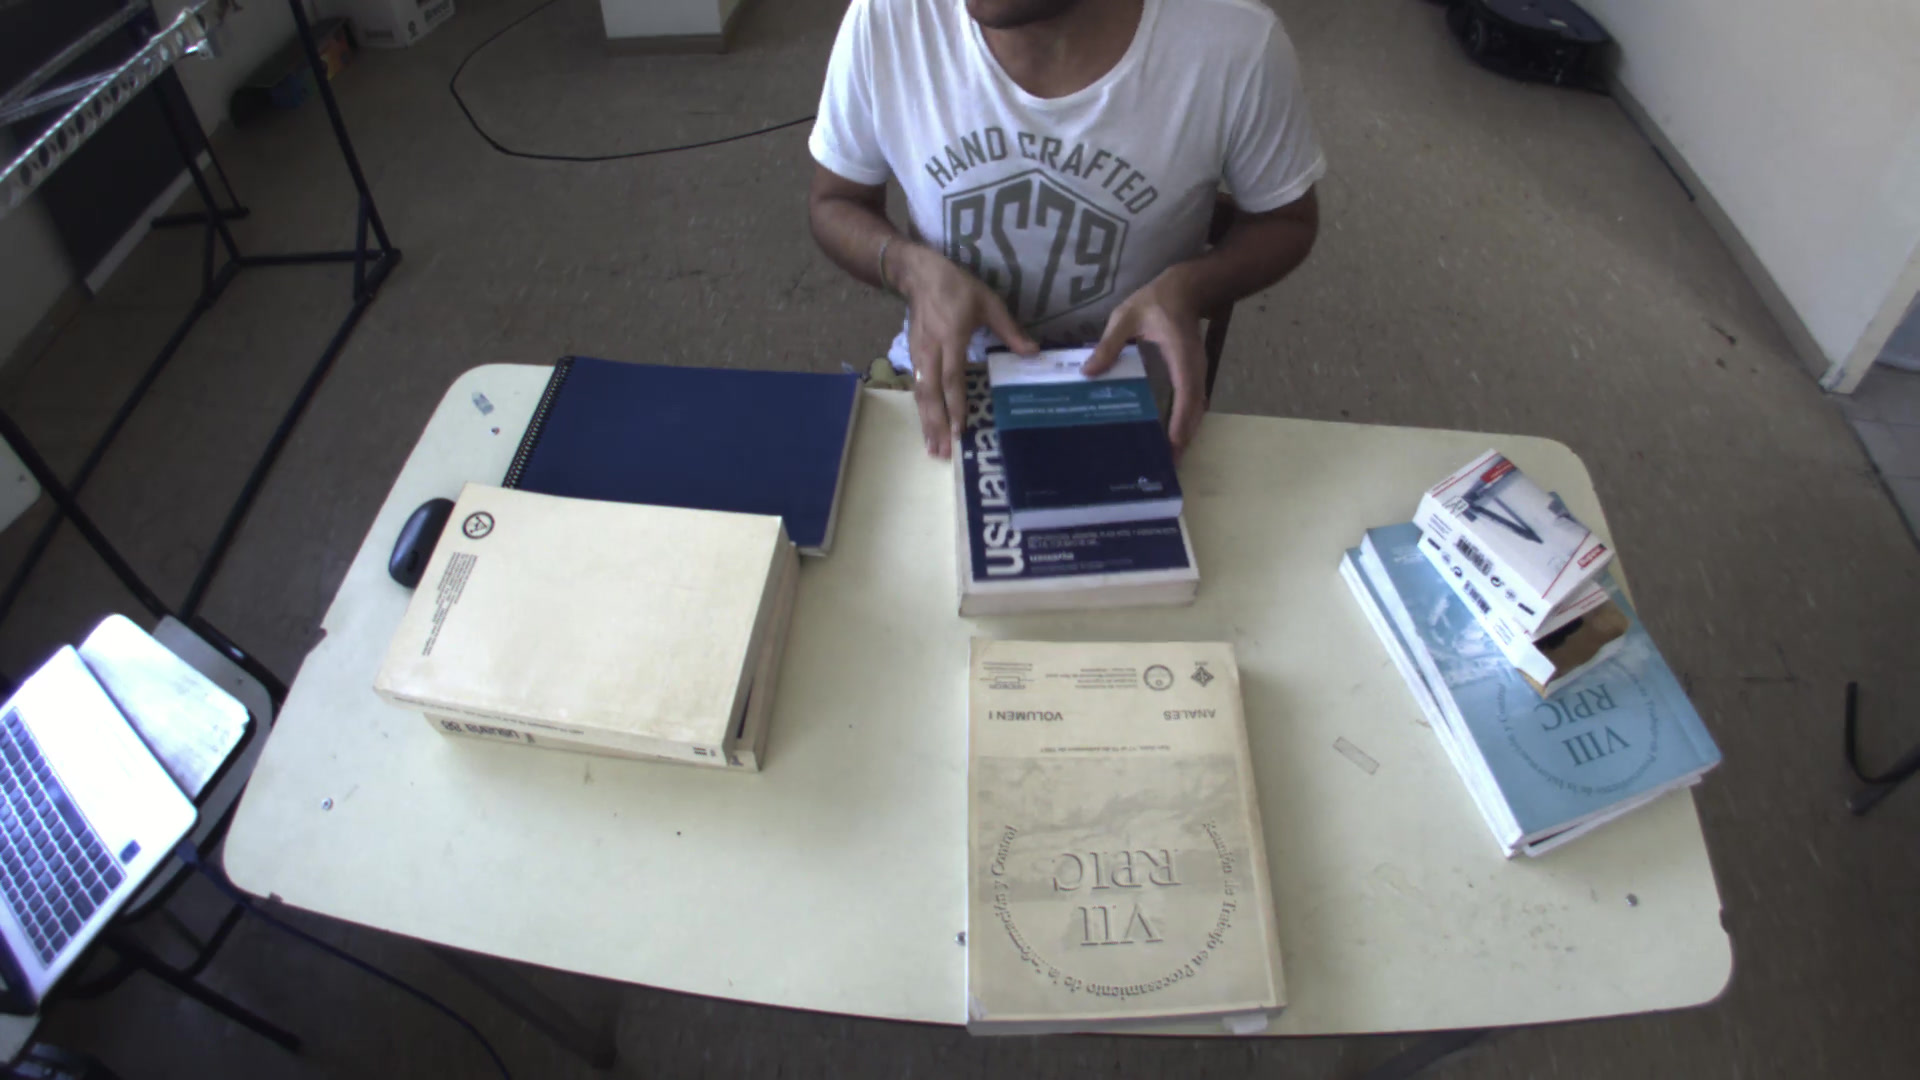hand: (891, 243, 1042, 458), (1084, 269, 1224, 447)
